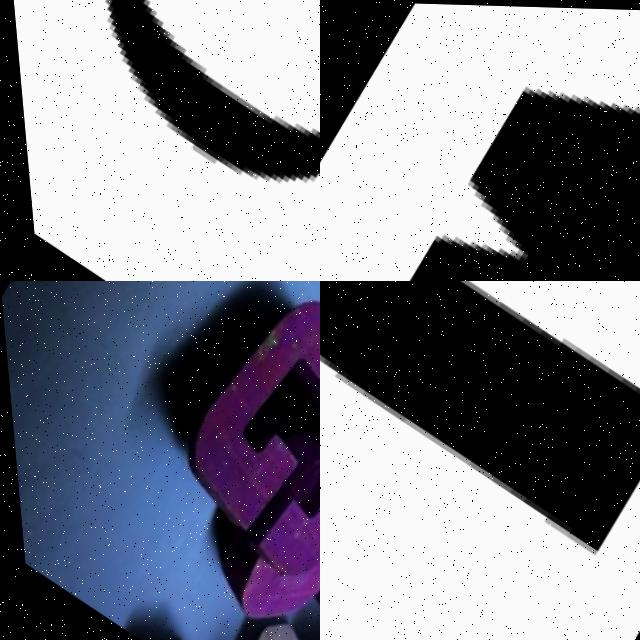5: (4, 0, 320, 281)
G: (117, 281, 320, 607)
J: (320, 281, 640, 562)
W: (320, 0, 640, 281)
